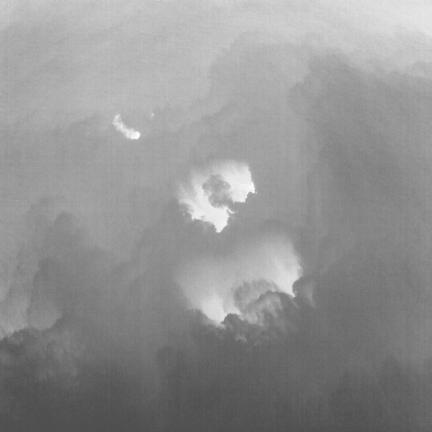flukeprints: (179, 177, 233, 232), (219, 161, 254, 202), (129, 131, 140, 138)
